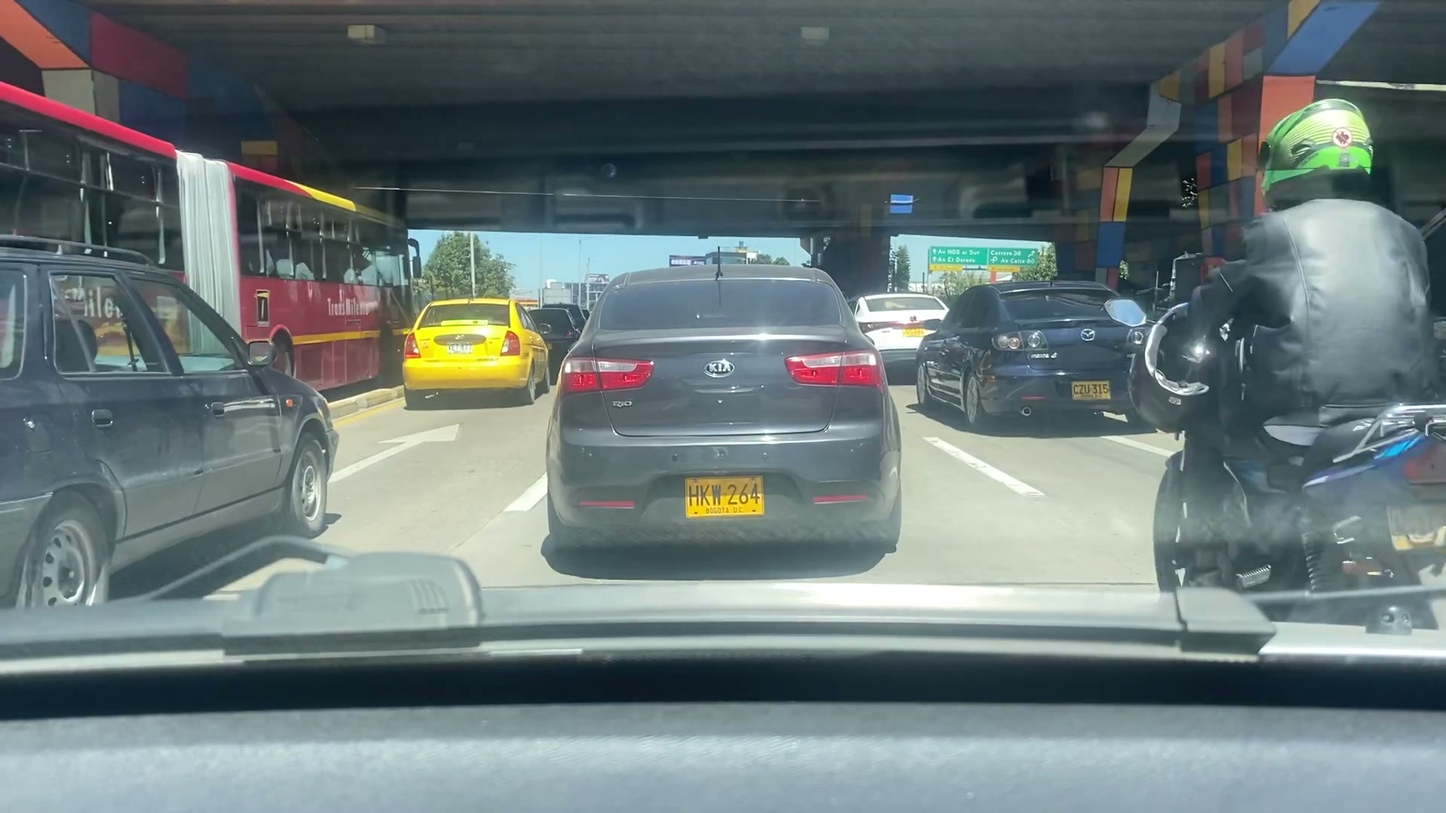bus: (1, 77, 422, 384)
car: (1, 234, 341, 610), (543, 268, 906, 555), (910, 283, 1161, 411), (401, 296, 555, 403), (847, 291, 956, 379), (526, 308, 582, 357)
motorcycle: (1119, 367, 1446, 632)
person: (1178, 95, 1446, 586)
